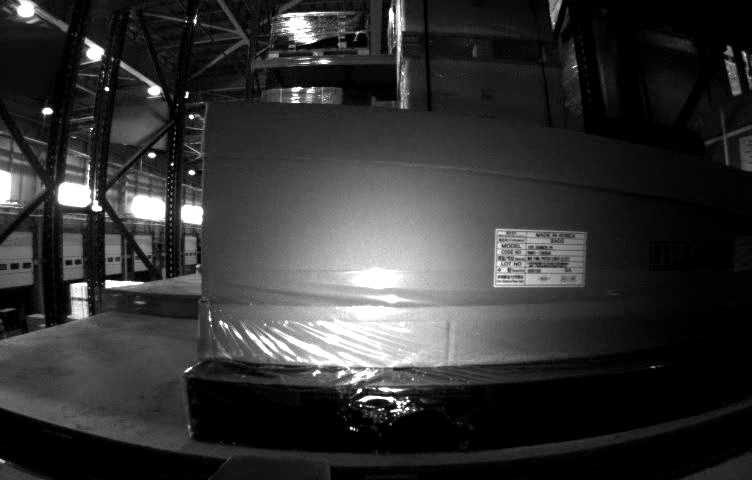True Barcode: (732, 236, 751, 270)
